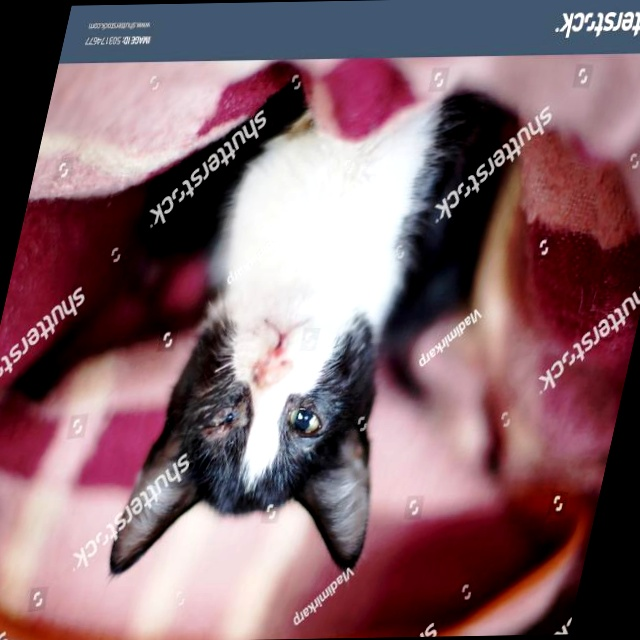eye_infection: (280, 402, 328, 442), (202, 408, 236, 439)
